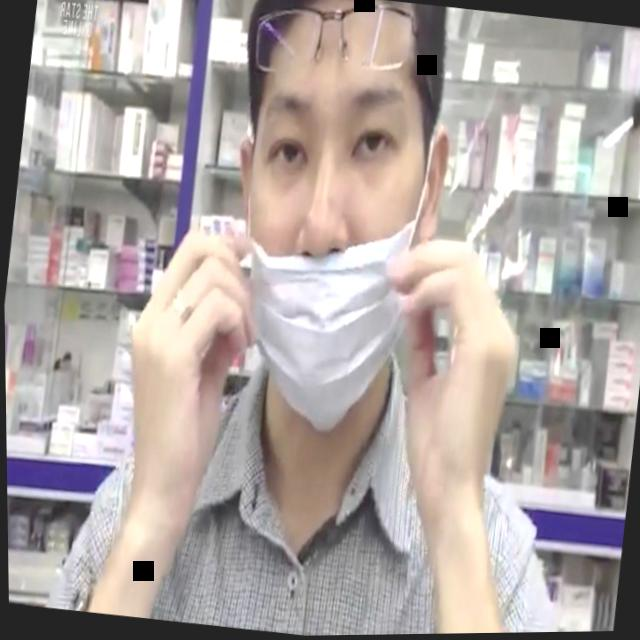Mask: (205, 0, 462, 450)
